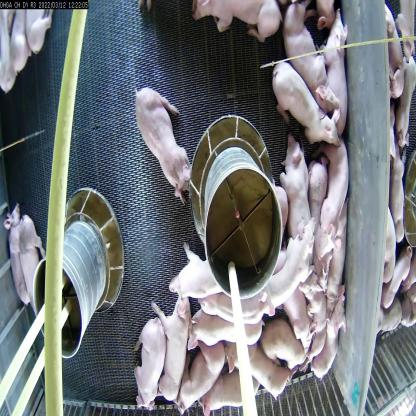Pig: (268, 46, 344, 160), (129, 76, 195, 202), (283, 0, 343, 116), (260, 215, 318, 322), (221, 330, 293, 408), (181, 292, 269, 353), (151, 286, 191, 411), (172, 330, 230, 416), (321, 1, 354, 145), (278, 122, 312, 252), (189, 0, 284, 46), (198, 354, 262, 414), (294, 271, 329, 379), (324, 131, 354, 252), (16, 204, 50, 310), (170, 237, 228, 295), (1, 192, 29, 310), (133, 317, 166, 412), (385, 138, 406, 241), (398, 45, 414, 163)
